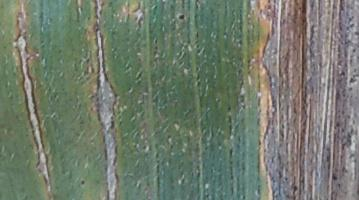tarspot: (176, 13, 186, 21), (292, 183, 299, 193), (79, 178, 86, 187), (330, 174, 339, 181), (338, 70, 346, 77), (352, 48, 357, 54)
